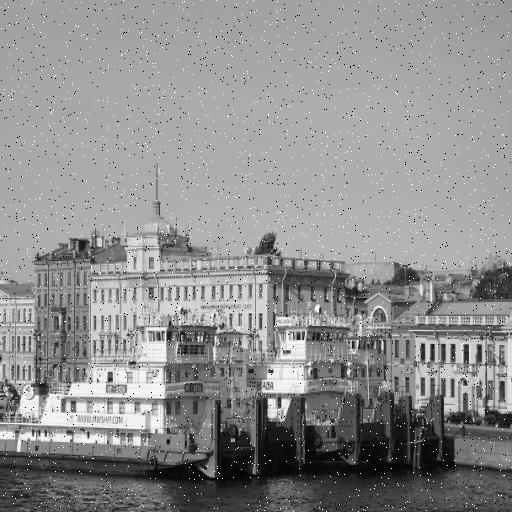tugboat: (1, 308, 270, 489)
